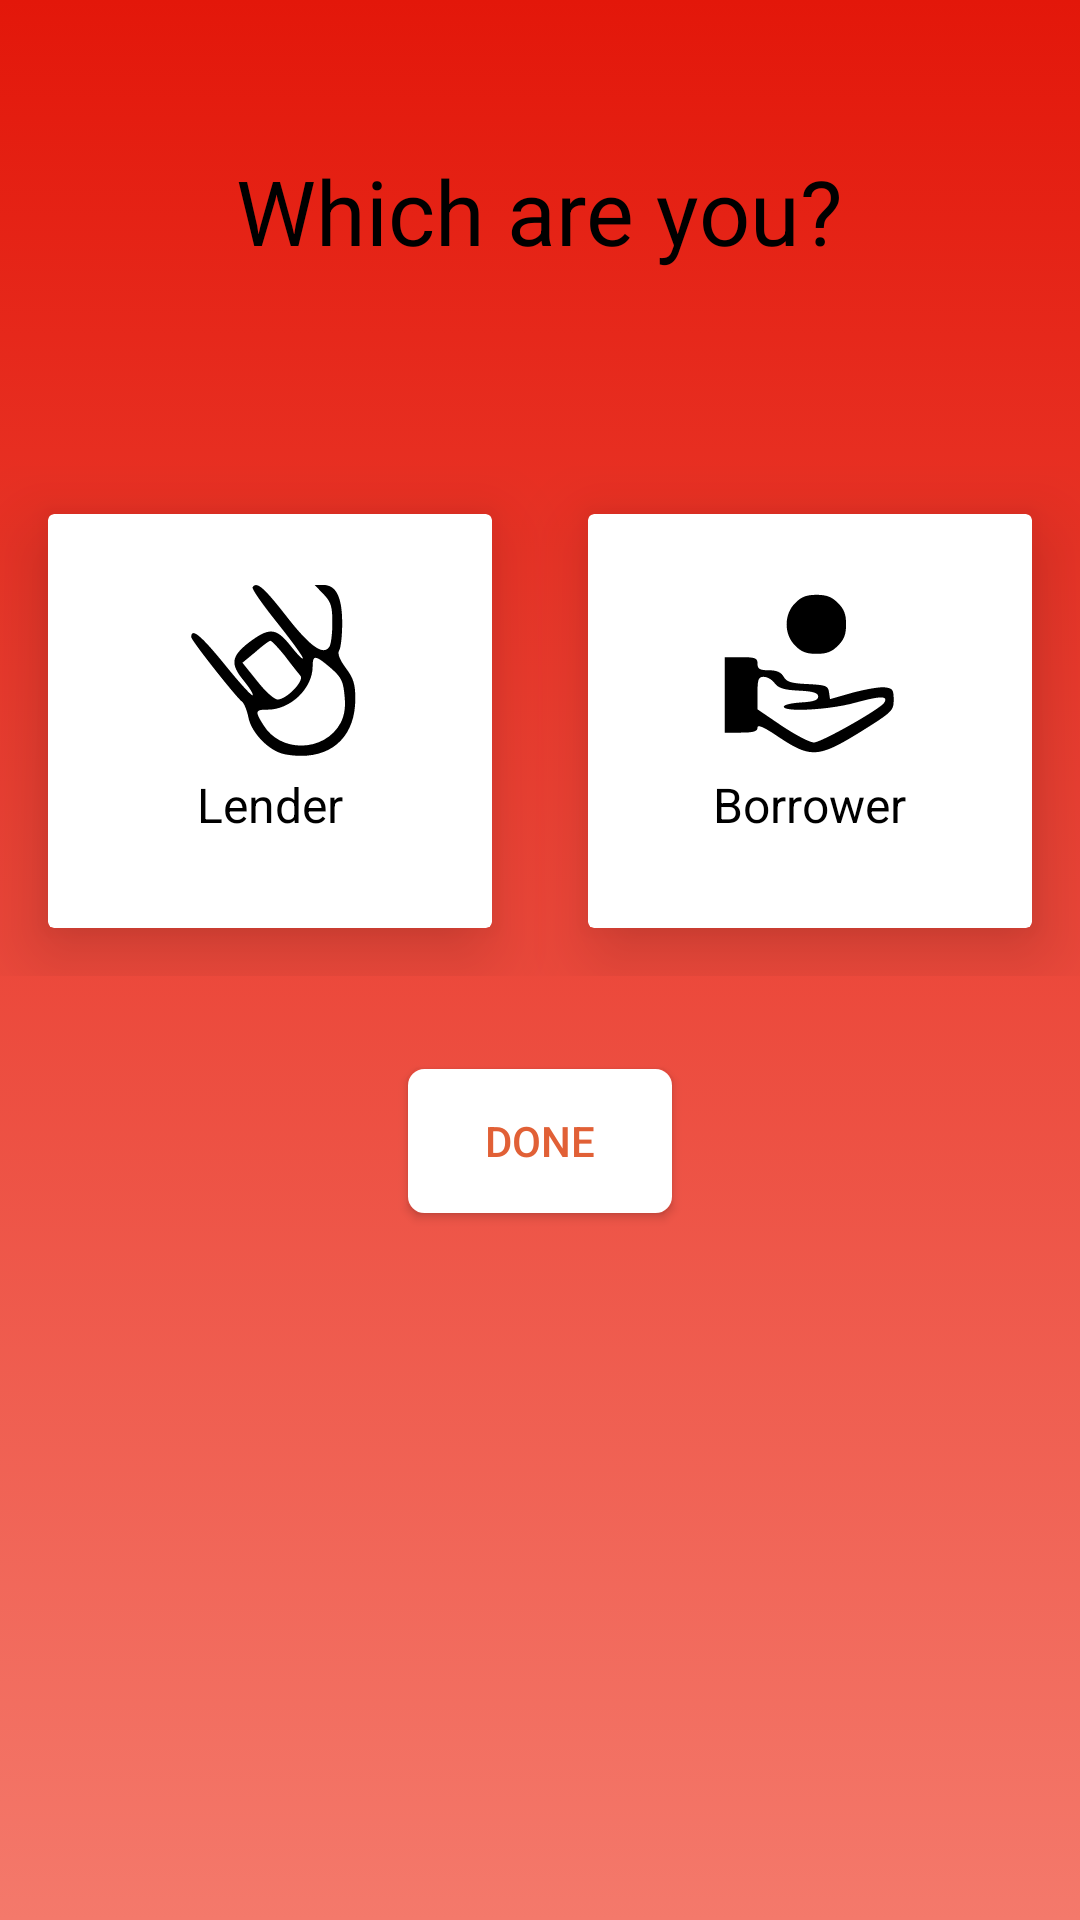

Icon click points for this 1080px x 1920px phone screenshot, format point (x, y):
receive cash: point (809, 673)
